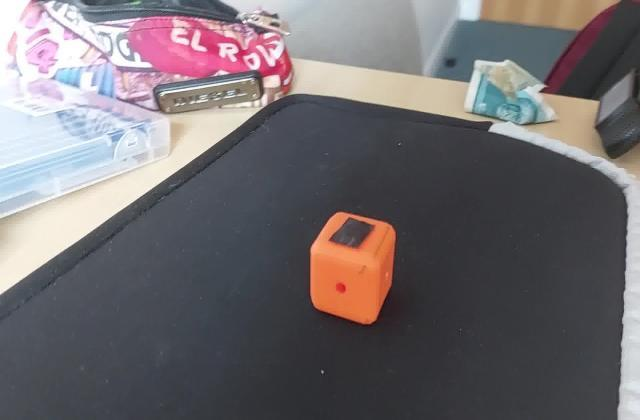black: (328, 218, 377, 249)
cube: (308, 210, 402, 329)
